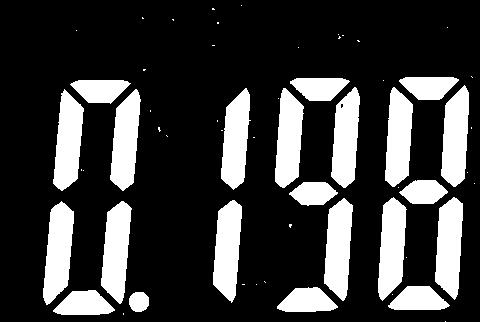0: (37, 76, 145, 317)
1: (210, 83, 251, 306)
8: (376, 73, 474, 314)
9: (267, 75, 365, 314)
dot: (128, 289, 152, 313)
